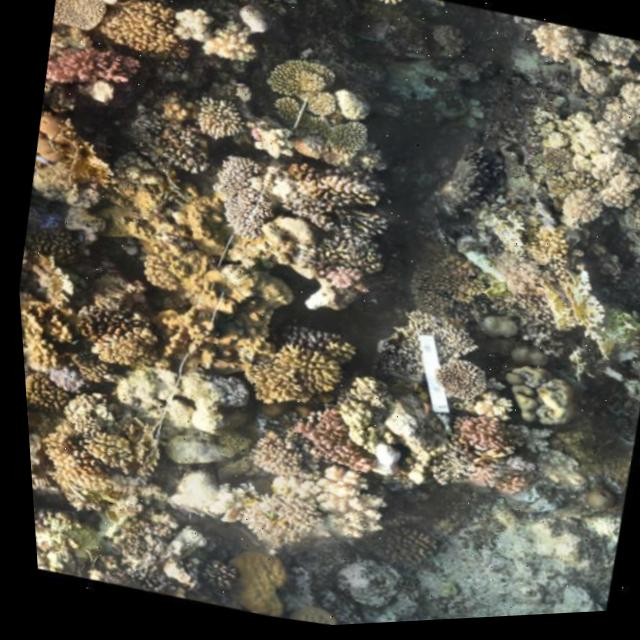Bleached Coral: (194, 446, 384, 578), (196, 149, 291, 250), (37, 360, 93, 396)
Healthy Coral: (238, 328, 344, 415), (265, 389, 372, 475), (42, 28, 141, 108), (49, 285, 150, 354), (110, 0, 175, 53), (447, 414, 510, 461)
